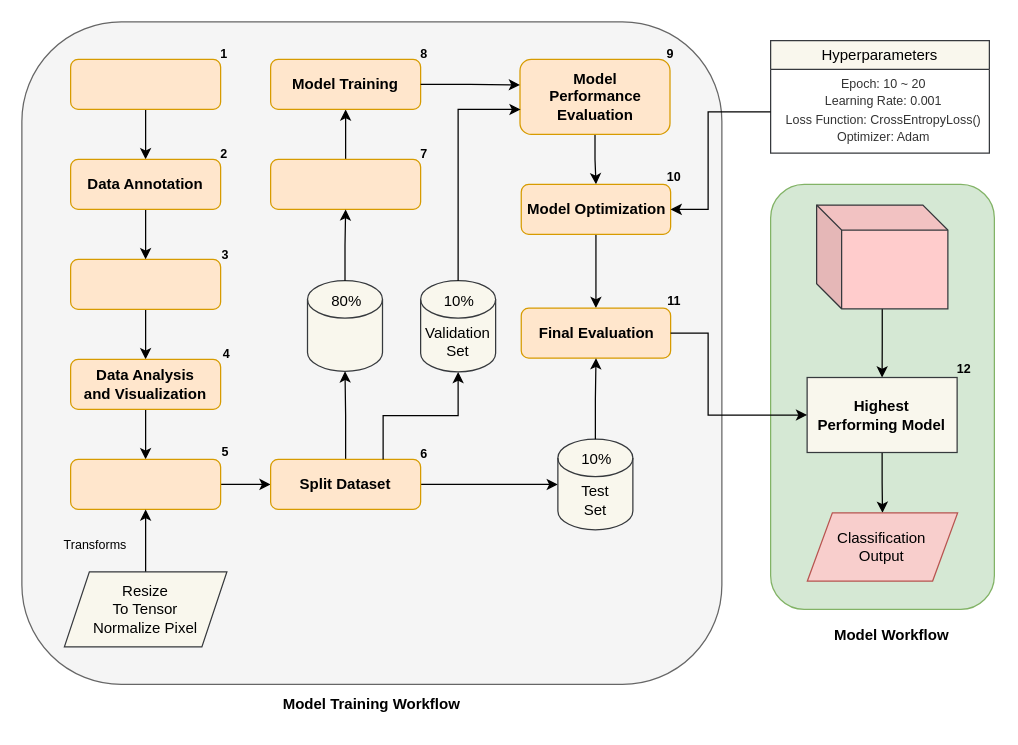
This 1018x745 diagram has some shape labels left out. The shapes that lost their labels are listed below. From the top down, each one's box as (x1, y1, x2, y2) in pixels, then its label:
(69, 58, 221, 109): Data Collection
(269, 158, 421, 209): Model Selection
(815, 204, 948, 309): Image
(69, 258, 221, 309): Data Cleaning
(306, 279, 382, 371): Train Set
(69, 458, 221, 509): Data Preprocessing
